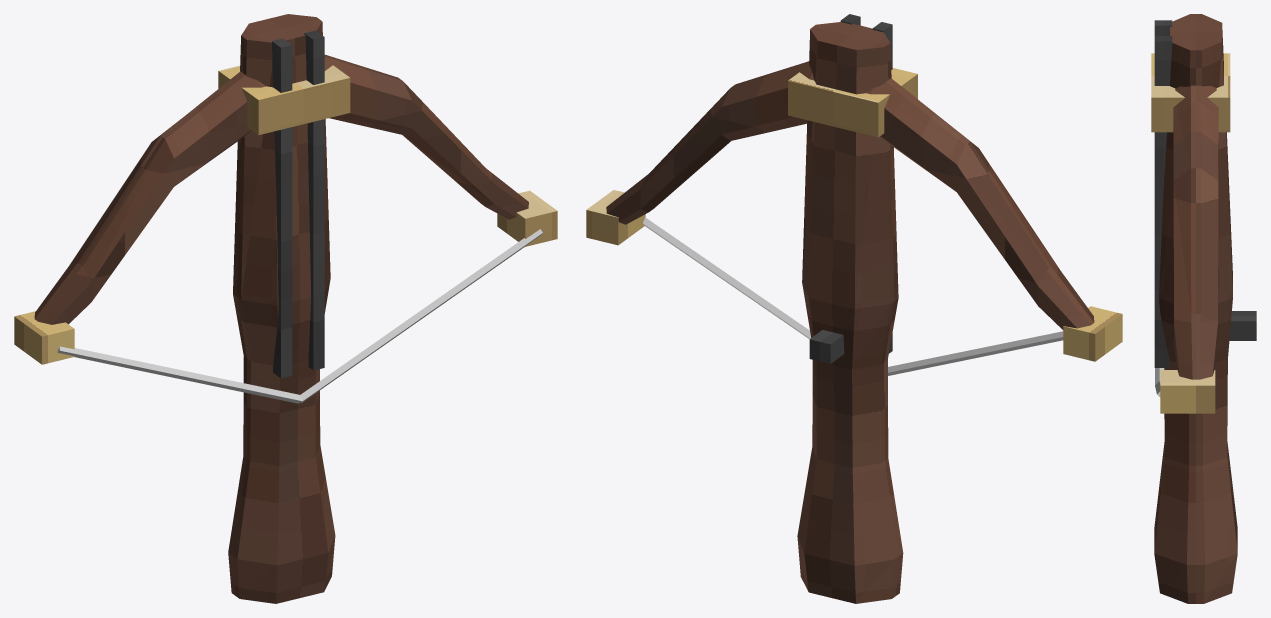
The model's file is cutout.obj.
3 views of the same model, side by side, from view 1: azimuth 30°, elevation 25°; view 2: azimuth 150°, elevation 25°; view 3: azimuth 270°, elevation 25° (orthographic).
Bounding box in the file's own units: 1.15 × 1.19 × 0.2062.
